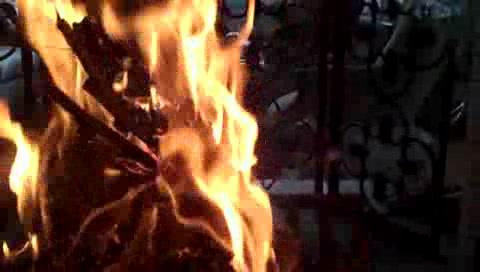fire: (3, 1, 270, 272)
